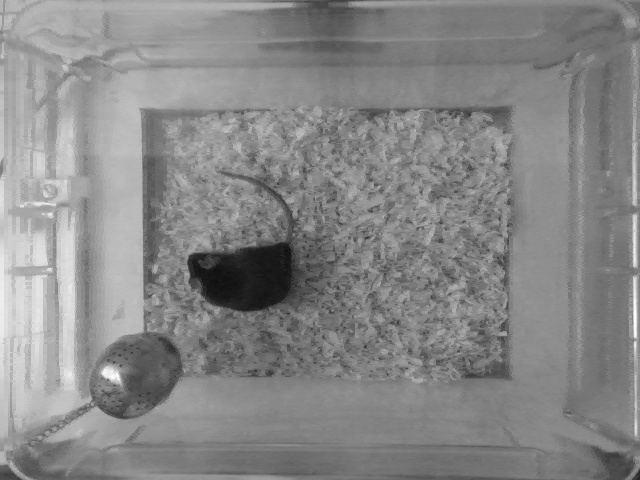mice: (185, 168, 296, 314)
